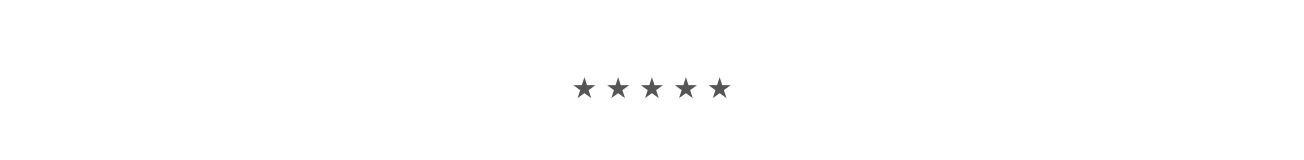
Test case: WatchedControls › marks the movie watched when it is rated
Step 1. Click the 4th radio button labelled "★" → (686, 85), box [671, 71, 701, 100]
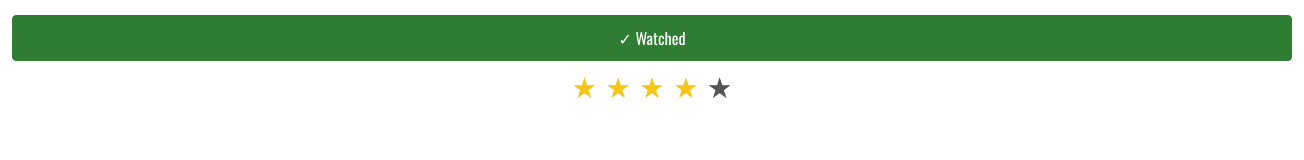
expect the button "✓ Watched" is shown: met, box [12, 15, 1292, 61]
